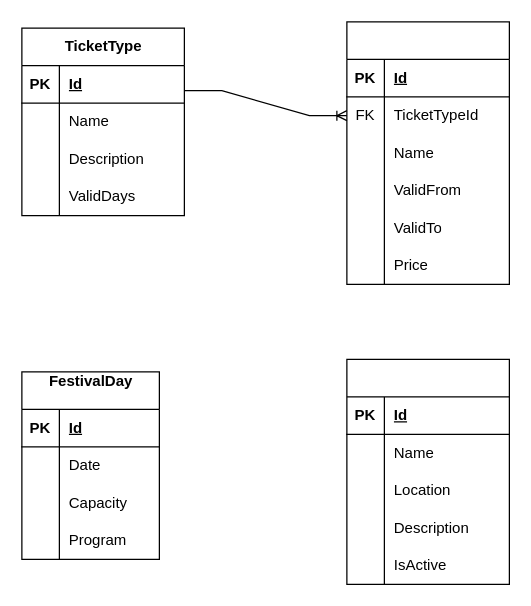
Image size: 531x606. Some labels were removed from this diagram. Each missing label, with the box of its shape:
Gate: (346, 358, 509, 584)
PriceTier: (346, 21, 509, 284)
